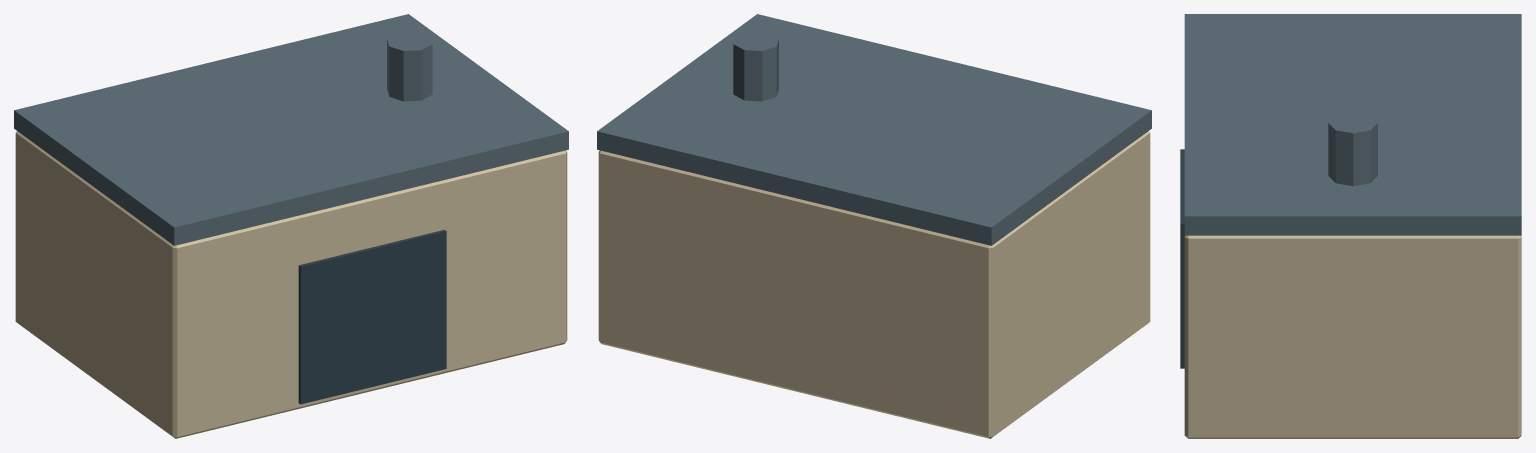
File: workshop-low.glb
3 views of the same model, side by side, from view 1: azimuth 30°, elevation 25°; view 2: azimuth 150°, elevation 25°; view 3: azimuth 270°, elevation 25° (orthographic). The views are drawn at different scales.
Parts seen in each view (by area): view 1: Workshop_Body, Roof, Loading_Door, Vent; view 2: Workshop_Body, Roof, Vent; view 3: Roof, Workshop_Body, Vent, Loading_Door.
Boxes of the visible parts, x1,y1,x2,y2 form: Workshop_Body: (15, 131, 567, 438); Roof: (14, 14, 568, 245); Loading_Door: (298, 229, 446, 404); Vent: (387, 32, 432, 101); Workshop_Body: (598, 131, 1150, 438); Roof: (597, 14, 1151, 245); Vent: (733, 32, 778, 101); Roof: (1184, 14, 1521, 235); Workshop_Body: (1184, 235, 1521, 438); Vent: (1328, 112, 1377, 186); Loading_Door: (1180, 149, 1184, 368).
Bounding box in the file's own units: 5.4 × 3.45 × 3.85.
